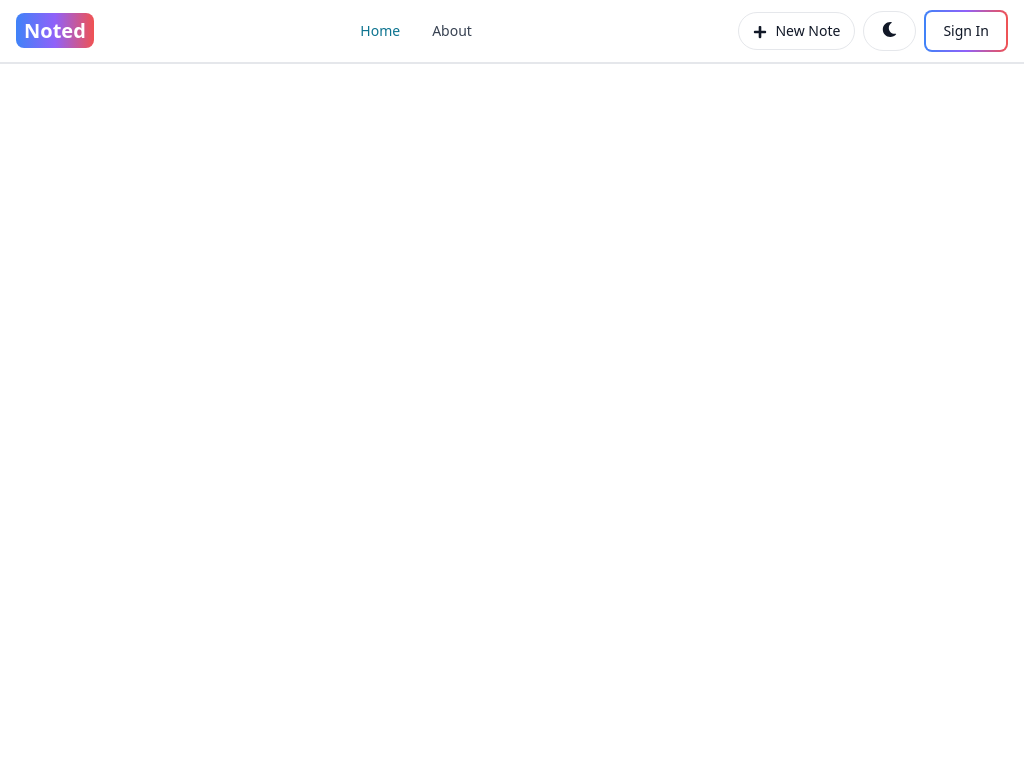
Test: Header Component › Theme Toggle › toggles theme between light and dark
Expected: the icon with test id "theme-icon-moon" is shown, [882,22,897,37]
What coordinates should you click on to do the following:
click the button named "toggle theme"
I would click on:
 (890, 31)
Its box is [863,11,916,51].
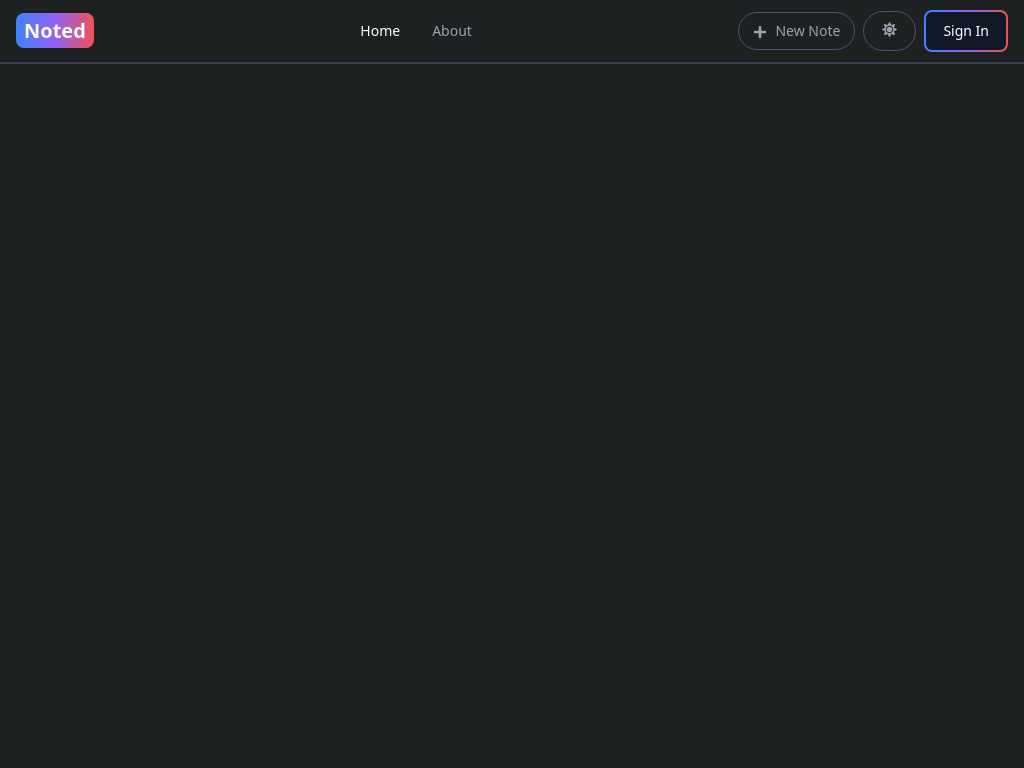
Expected: the icon with test id "theme-icon-sun" is shown, [882,22,897,37]
